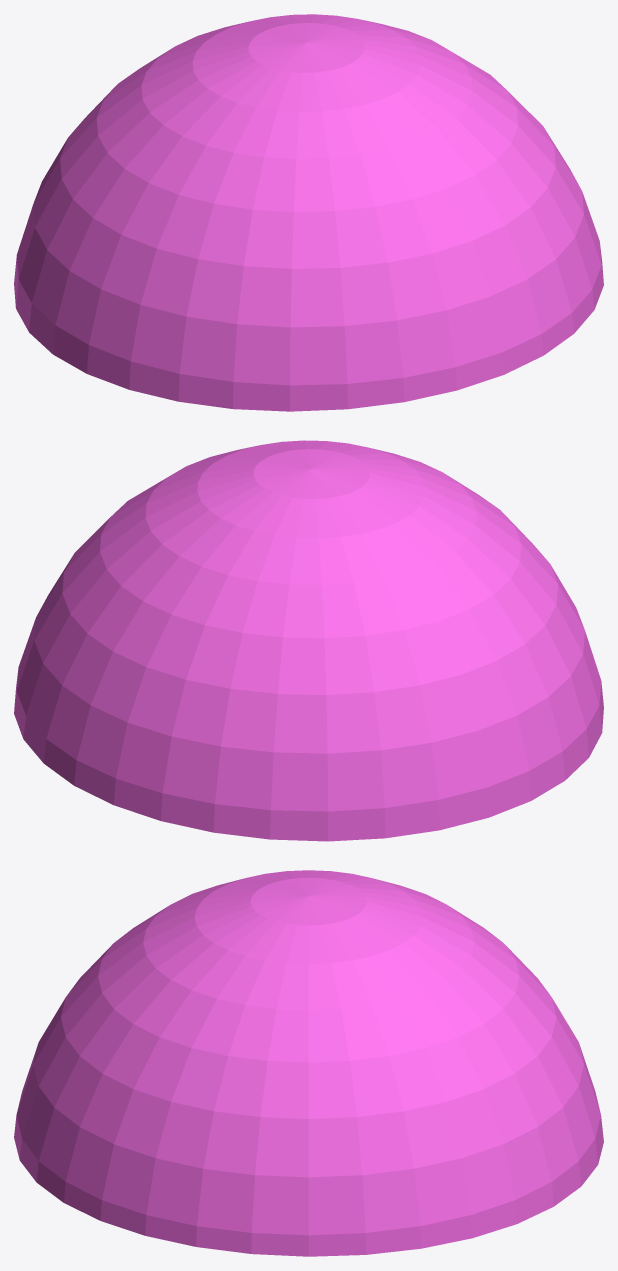
The model's file is Eyelid.obj.
3 views of the same model, one above another, from view 1: azimuth 30°, elevation 25°; view 2: azimuth 150°, elevation 25°; view 3: azimuth 270°, elevation 25° (orthographic).
Parts seen in each view (by area): view 1: Sphere.001; view 2: Sphere.001; view 3: Sphere.001.
Part boxes in pixels (x1,y1,x2,y2): Sphere.001: (14,14,603,411); Sphere.001: (14,440,603,841); Sphere.001: (14,870,603,1256).
Bounding box in the file's own units: 2.06 × 0.9619 × 2.06.
Materials: 1 (1 with a texture image).
